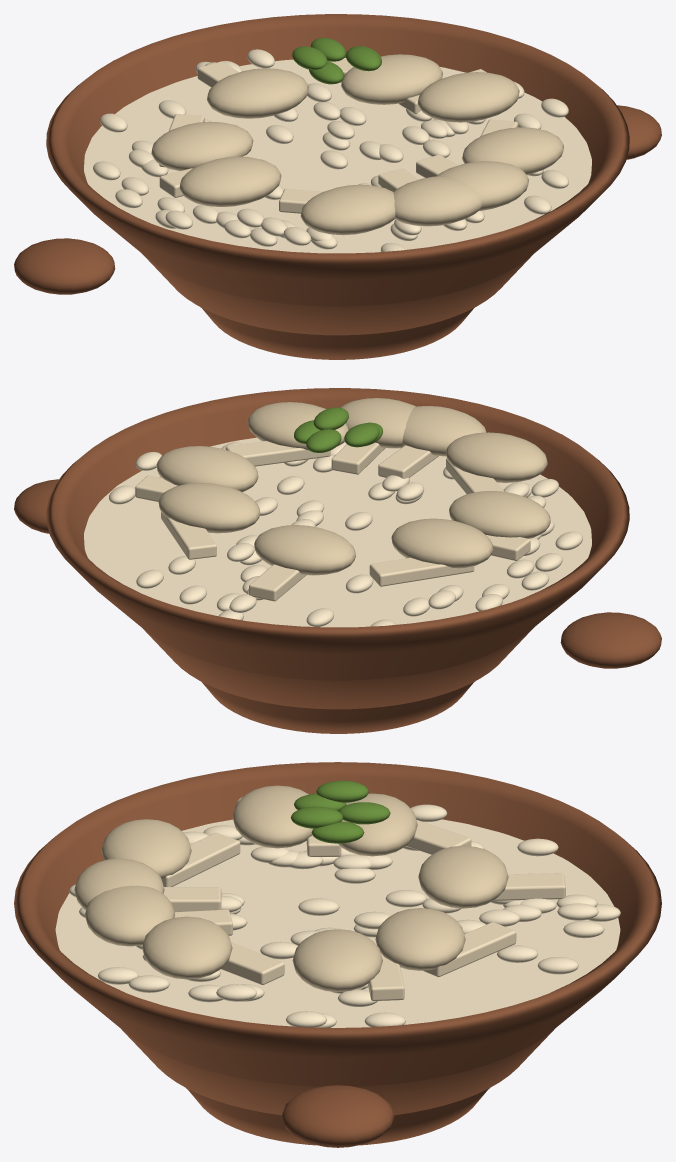
The model's file is 20-mushroom-rice.glb.
The picture shows the model from 3 angles, top to bottom: view 1: azimuth 30°, elevation 25°; view 2: azimuth 150°, elevation 25°; view 3: azimuth 270°, elevation 25°; orthographic projection. The views are drawn at different scales.
Parts seen in each view (by area): view 1: 버섯 솥밥; view 2: 버섯 솥밥; view 3: 버섯 솥밥.
Boxes of the visible parts, bbox=[...] form: 버섯 솥밥: bbox=[14, 14, 661, 359]; 버섯 솥밥: bbox=[14, 388, 661, 733]; 버섯 솥밥: bbox=[14, 762, 661, 1147].
Size of the model in its own units: 2.16 by 0.841 by 1.72.
